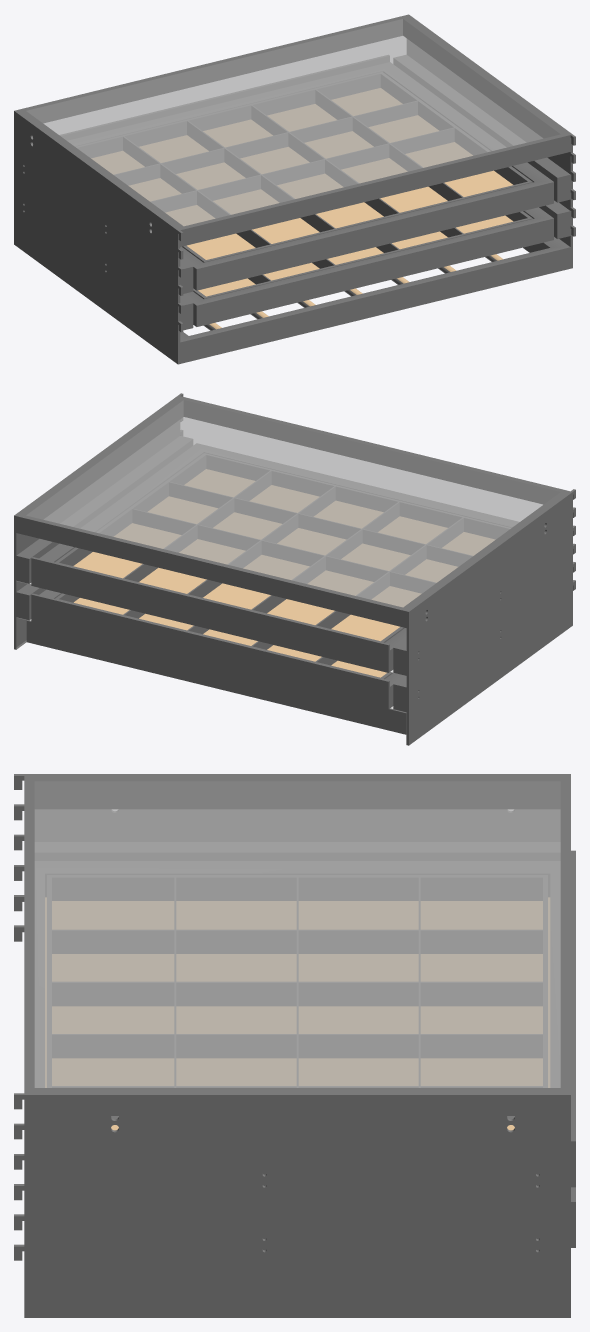
The picture shows the model from 3 angles, top to bottom: view 1: azimuth 30°, elevation 25°; view 2: azimuth 150°, elevation 25°; view 3: azimuth 270°, elevation 25°; orthographic projection. The views are drawn at different scales.
Parts seen in each view (by area): view 1: Geom3D (×3); view 2: Geom3D (×3); view 3: Geom3D (×3).
Part boxes in pixels (x1,y1,x2,y2): Geom3D (×3): [14, 14, 575, 364]; Geom3D (×3): [14, 393, 575, 745]; Geom3D (×3): [14, 774, 575, 1317].
Bounding box in the file's own units: 0.7368 × 0.2384 × 0.545.
